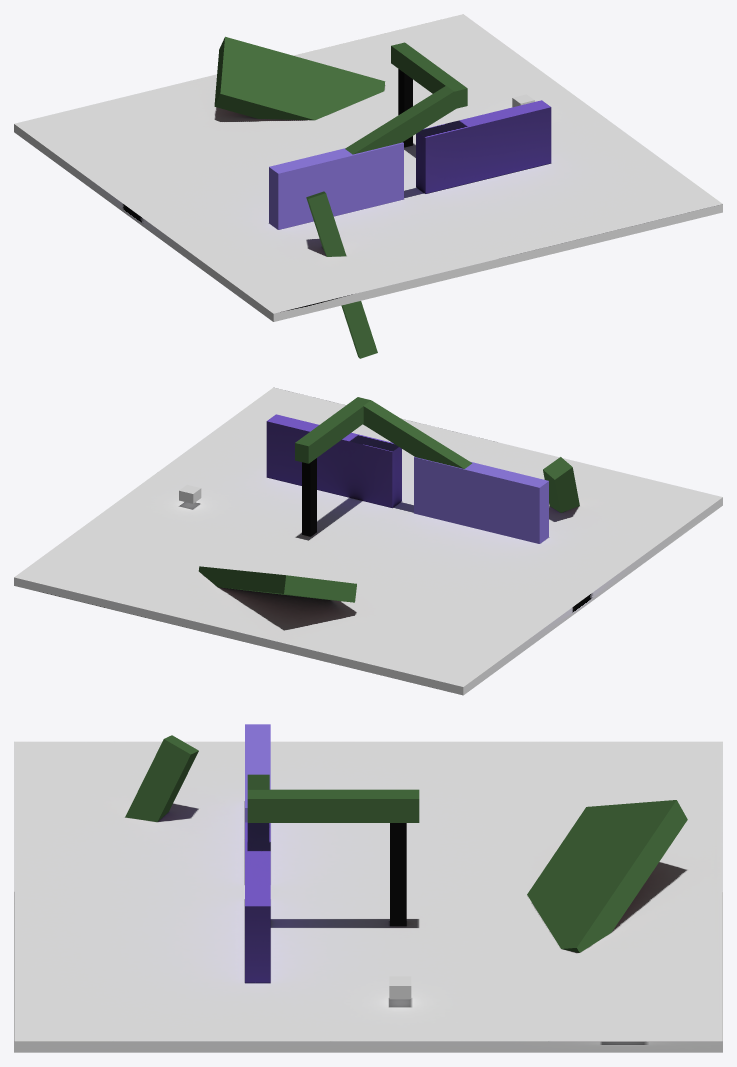
File: Map3.gltf
The picture shows the model from 3 angles, top to bottom: view 1: azimuth 30°, elevation 25°; view 2: azimuth 150°, elevation 25°; view 3: azimuth 270°, elevation 25°; orthographic projection. The views are drawn at different scales.
Parts seen in each view (by area): view 1: Ground, Cube.004, Cube.003, Cube.006, Cube.010, Cube.005, Cube.008, Cube.009; view 2: Ground, Cube.006, Cube.003, Cube.004, Cube.010, Cube.008, Cube.005, Cube.009; view 3: Ground, Cube.004, Cube.008, Cube.003, Cube.005, Cube.009, Cube.006, Cube.
Boxes of the visible parts, bbox=[...] form: Ground: bbox=[14, 14, 722, 321]; Cube.004: bbox=[214, 36, 385, 120]; Cube.003: bbox=[416, 100, 551, 193]; Cube.006: bbox=[269, 142, 403, 229]; Cube.010: bbox=[345, 86, 455, 154]; Cube.005: bbox=[306, 191, 377, 358]; Cube.008: bbox=[391, 42, 467, 109]; Cube.009: bbox=[398, 69, 412, 147]; Ground: bbox=[14, 387, 722, 695]; Cube.006: bbox=[414, 456, 548, 543]; Cube.003: bbox=[266, 414, 401, 507]; Cube.004: bbox=[198, 566, 356, 602]; Cube.010: bbox=[363, 400, 472, 468]; Cube.008: bbox=[295, 397, 370, 463]; Cube.005: bbox=[543, 457, 579, 512]; Cube.009: bbox=[302, 458, 316, 536]; Ground: bbox=[14, 741, 722, 1052]; Cube.004: bbox=[527, 800, 687, 952]; Cube.008: bbox=[247, 789, 419, 822]; Cube.003: bbox=[245, 822, 270, 983]; Cube.005: bbox=[125, 735, 198, 821]; Cube.009: bbox=[390, 823, 406, 926]; Cube.006: bbox=[245, 724, 270, 822]; Cube: bbox=[389, 976, 411, 999].
Bounding box in the file's own units: 200 × 80.72 × 200.
5 materials, 3 textured.
